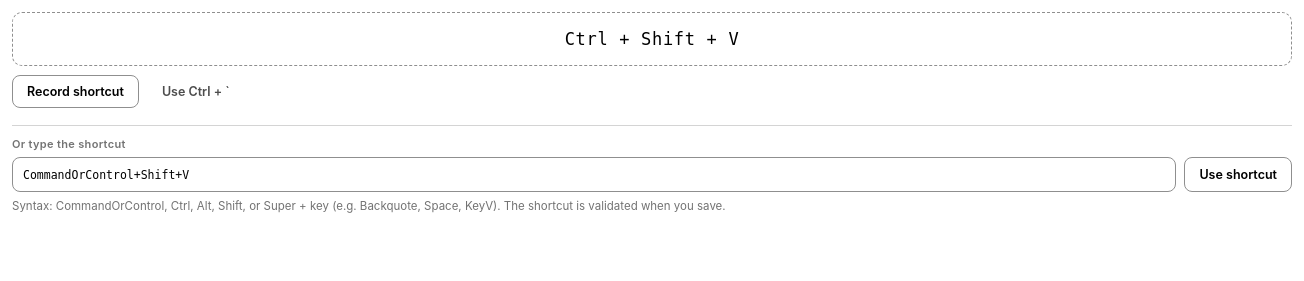
Test: HotkeyRecorder › shows a hint when the combination lacks a strong modifier
Click the button "Record shortcut" at {"x": 75, "y": 92}, box [12,75,139,108]
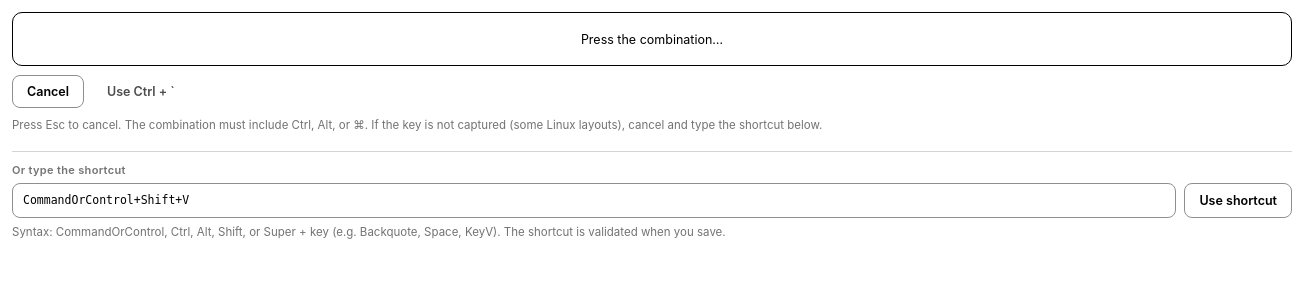
Press k
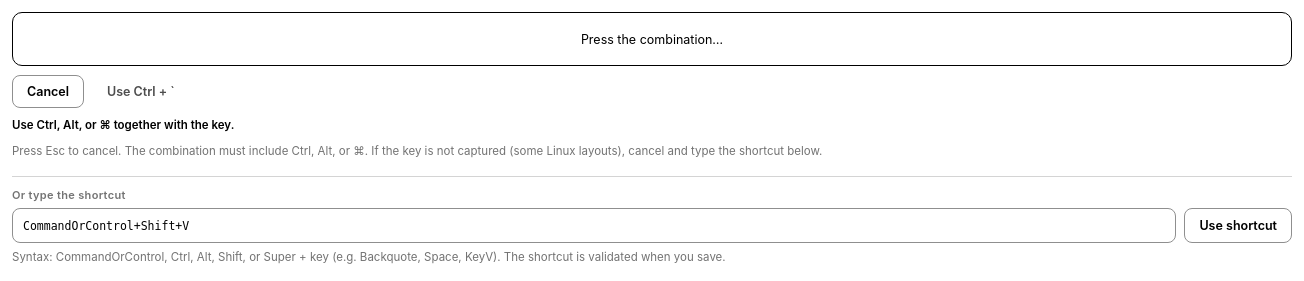
Expected: the text "Use Ctrl, Alt, or ⌘ together with the key." is shown, [12,118,234,132]
